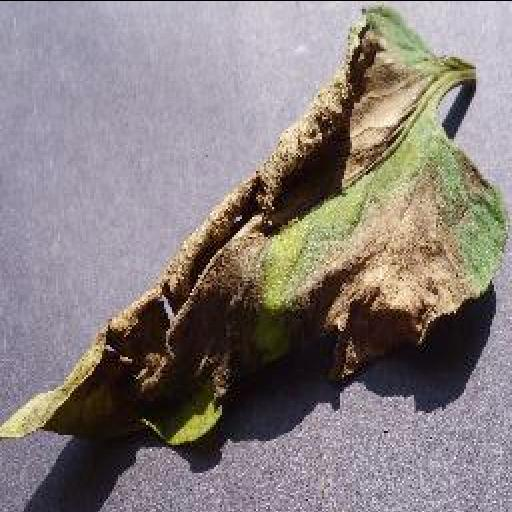disease_tomato: (0, 3, 512, 449)
